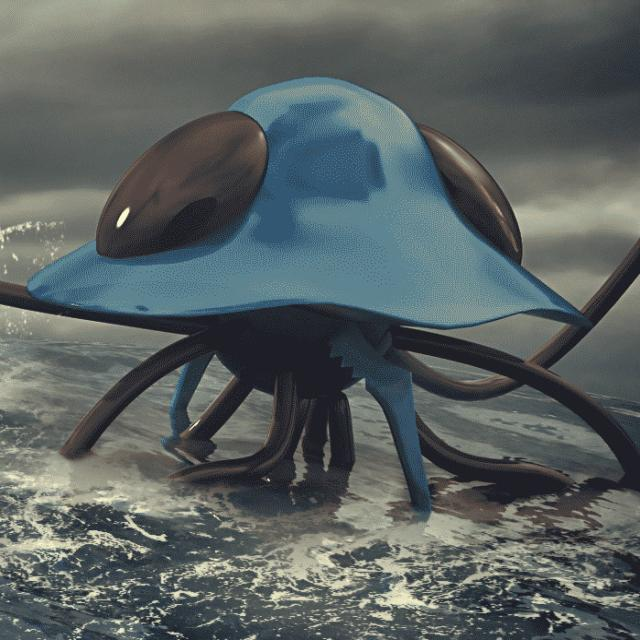Tentacruel: (58, 82, 548, 498)
